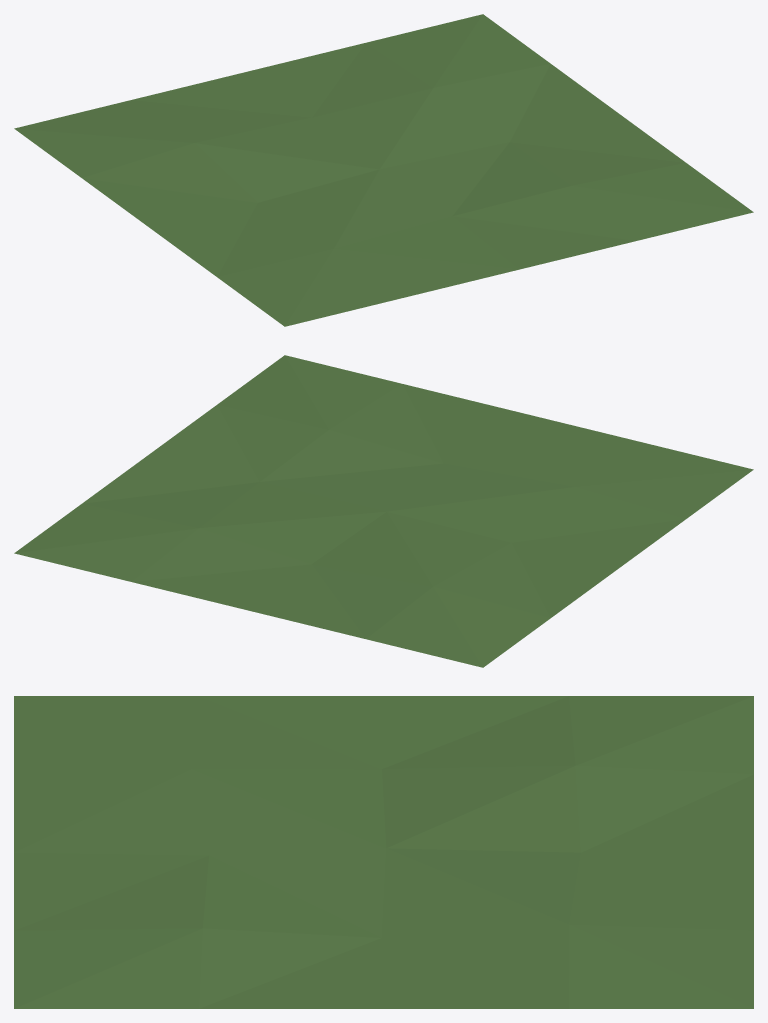
The model's file is SM_Env_Grass_01.fbx.
3 renders of one model, top to bottom at view 1: azimuth 30°, elevation 25°; view 2: azimuth 150°, elevation 25°; view 3: azimuth 270°, elevation 25°, orthographic. The views are drawn at different scales.
Visible parts, largest first — view 1: SM_Env_Grass_01; view 2: SM_Env_Grass_01; view 3: SM_Env_Grass_01.
Boxes of the visible parts, box(x1,y1,x2,y2) form: SM_Env_Grass_01: box(14, 14, 753, 326); SM_Env_Grass_01: box(14, 355, 753, 667); SM_Env_Grass_01: box(14, 696, 753, 1008).
Bounding box in the file's own units: 500 × 6.95 × 500.
